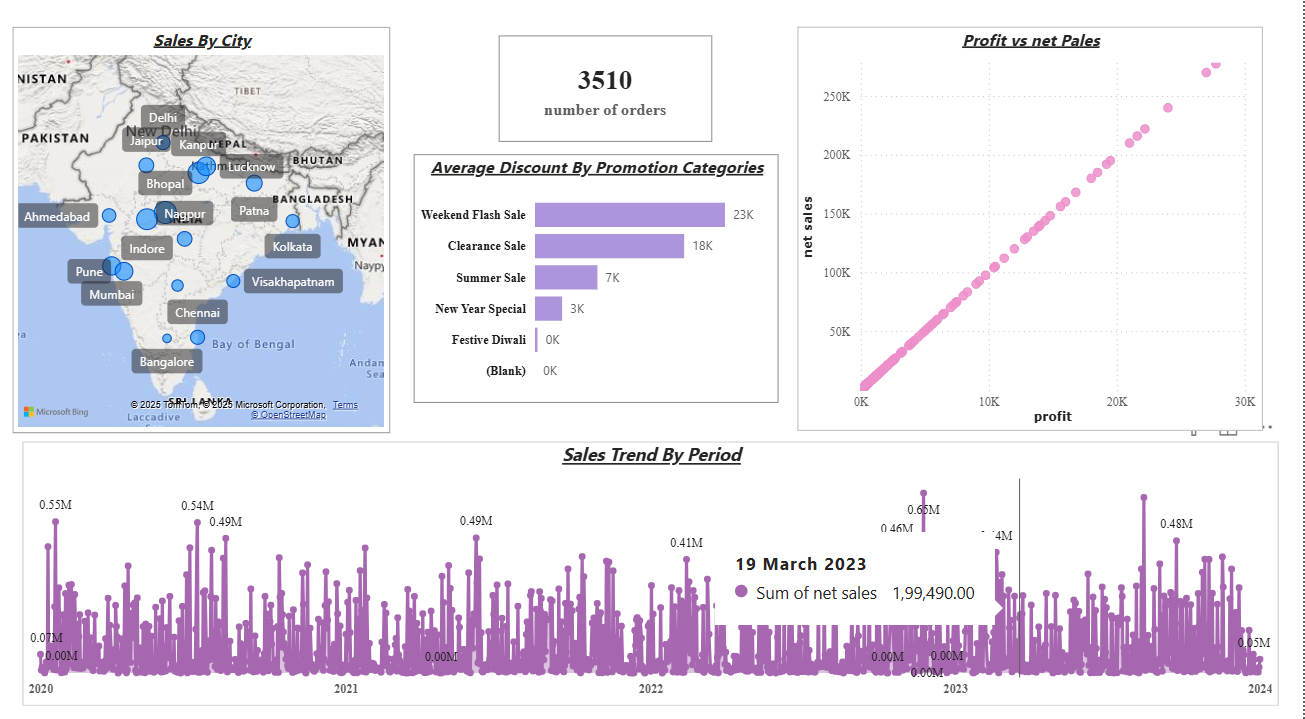

This screenshot's page, from the dashboard's own definition file:
{"tool":"powerbi","page":{"name":"overview","canvas":[1280,720],"ordinal":0},"visuals":[{"type":"lineChart","title":"Sales Trend By Period","fields":{"Category":["fact table.Date.Variation.Date Hierarchy.Year"],"Y":["Sum(fact table.net sales)"]},"box":[26.9,443.9,1228.9,258],"z":0},{"type":"scatterChart","title":"Profit vs net Pales","fields":{"Y":["fact table.net sales"],"X":["fact table.profit"]},"box":[785.1,37.9,454.9,395],"z":1000},{"type":"barChart","title":"Average Discount By Promotion Categories","fields":{"Y":["Avg(fact table.discount value)"],"Category":["Dim Promotion.Promotion Name"]},"box":[409.6,162.6,357.1,243.3],"z":2000},{"type":"map","title":" Sales By City","fields":{"Category":["Dim Customers.City"],"Size":["Sum(fact table.net sales)"]},"box":[17.1,37.9,369.3,397.4],"z":3000},{"type":"card","fields":{"Values":["Count(fact table.order id)"]},"box":[492.8,46.5,209.1,103.9],"z":4000}]}

Visuals, with their boxes in screenshot pixels (x1, y1, x2, y2), scaled from the page's 1280x720 canvas onto the 1305x719 screenshot:
"Sales Trend By Period" lineChart: [x1=27, y1=443, x2=1280, y2=701]
"Profit vs net Pales" scatterChart: [x1=800, y1=38, x2=1264, y2=432]
"Average Discount By Promotion Categories" barChart: [x1=418, y1=162, x2=782, y2=405]
" Sales By City" map: [x1=17, y1=38, x2=394, y2=435]
card - Count(fact table.order id): [x1=502, y1=46, x2=716, y2=150]
